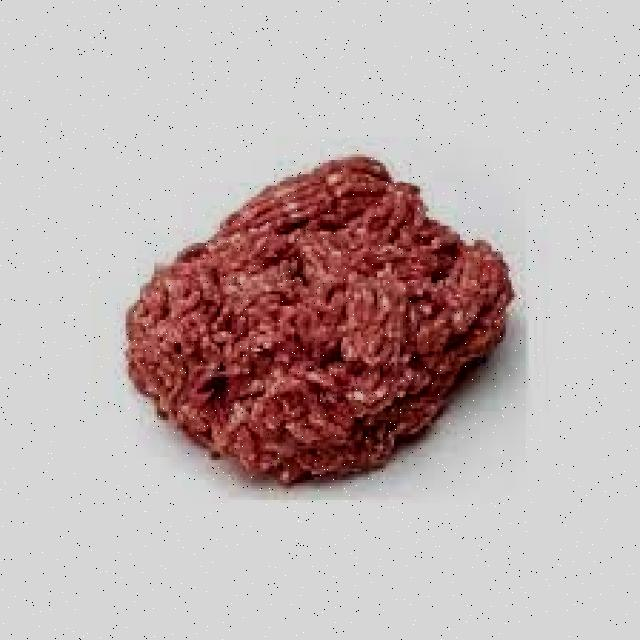Minced Meat: (122, 147, 554, 527)
